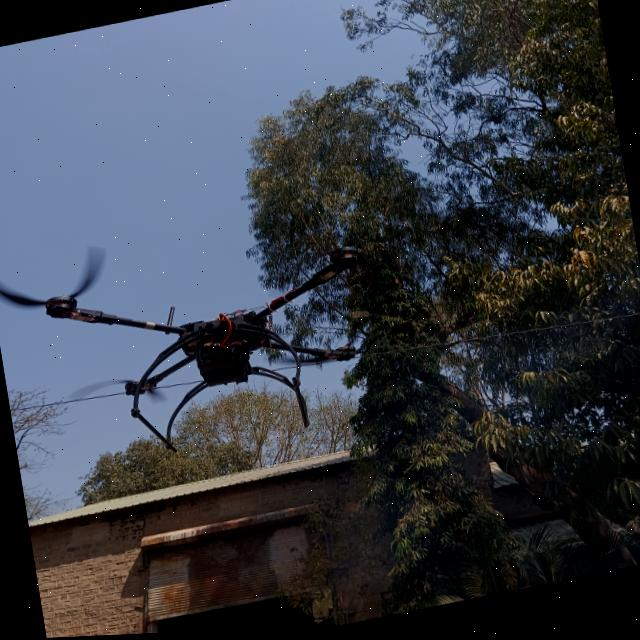drone: (0, 167, 459, 493)
